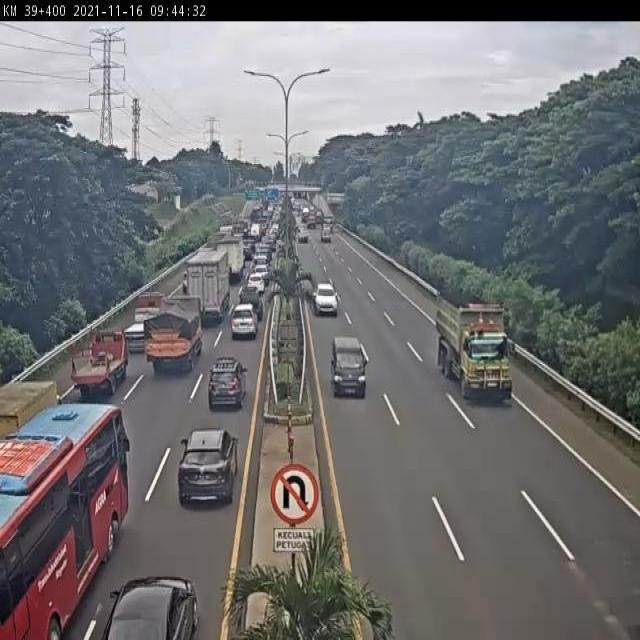big bus: (0, 404, 126, 640)
car: (177, 428, 239, 503), (330, 335, 367, 397), (207, 358, 244, 410), (228, 310, 258, 346), (238, 290, 265, 326), (311, 278, 336, 314), (247, 274, 266, 294)
small truck: (68, 332, 126, 399), (0, 382, 62, 442), (121, 292, 167, 355)
truck-l-: (435, 300, 512, 397), (187, 253, 230, 326)
truck-m-: (143, 306, 200, 378), (216, 239, 244, 280)
